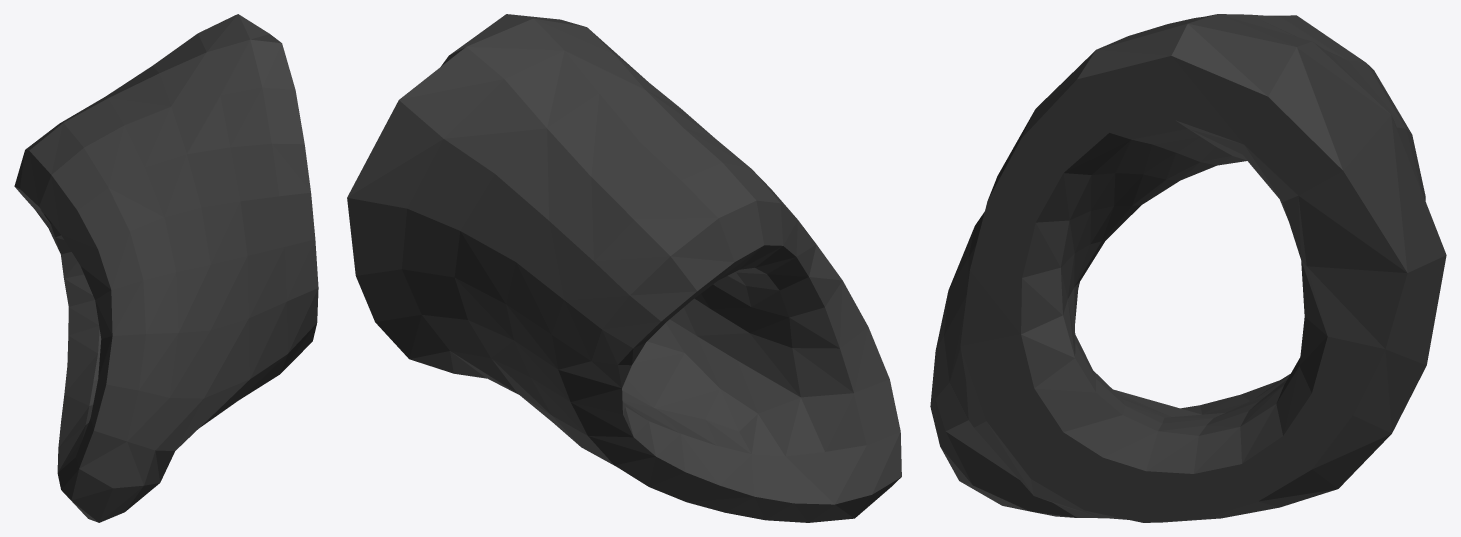
The model's file is annular_cart_1.glb.
The picture shows the model from 3 angles, left to right: view 1: azimuth 30°, elevation 25°; view 2: azimuth 150°, elevation 25°; view 3: azimuth 270°, elevation 25°; orthographic projection. The views are drawn at different scales.
Parts seen in each view (by area): view 1: annular_cart_1; view 2: annular_cart_1; view 3: annular_cart_1.
Part boxes in pixels (x1,y1,x2,y2): annular_cart_1: (14, 14, 318, 522); annular_cart_1: (347, 14, 901, 522); annular_cart_1: (930, 14, 1446, 522).
Bounding box in the file's own units: 0.1094 × 0.1312 × 0.0956.
Materials: 1 (1 with a texture image).
